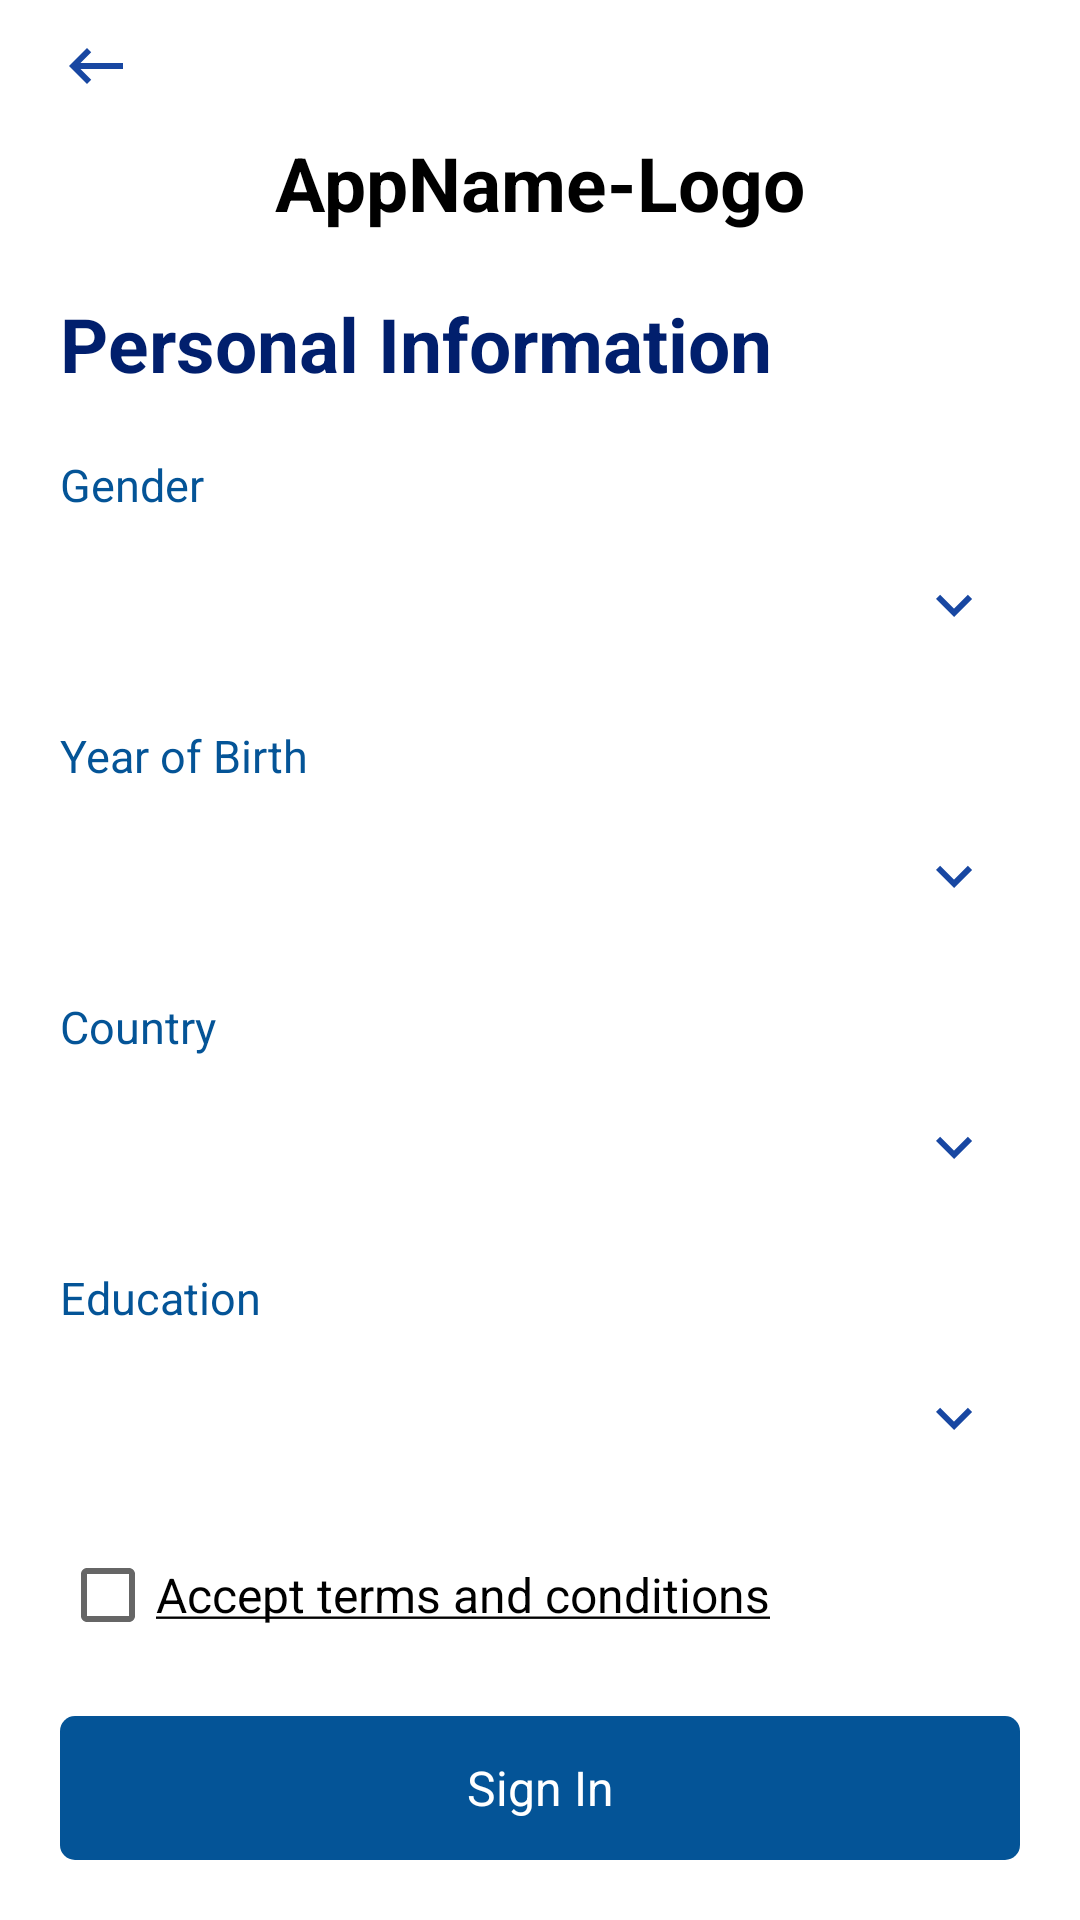

Icon click points for this 1080 x 1920 phone screenshot, format point (x, y):
arrow down: point (954, 606), point (954, 877), point (954, 1148), point (954, 1419)
back: point (96, 66)
